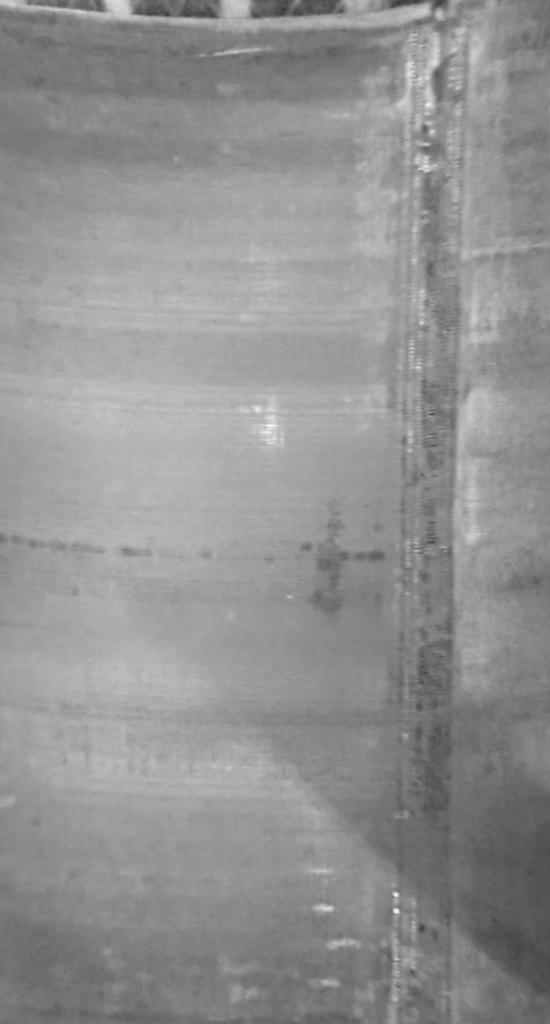splice: (385, 3, 482, 1024)
